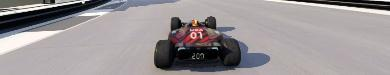Car: (153, 16, 241, 68)
obstacles-Borders: (0, 0, 113, 38)
